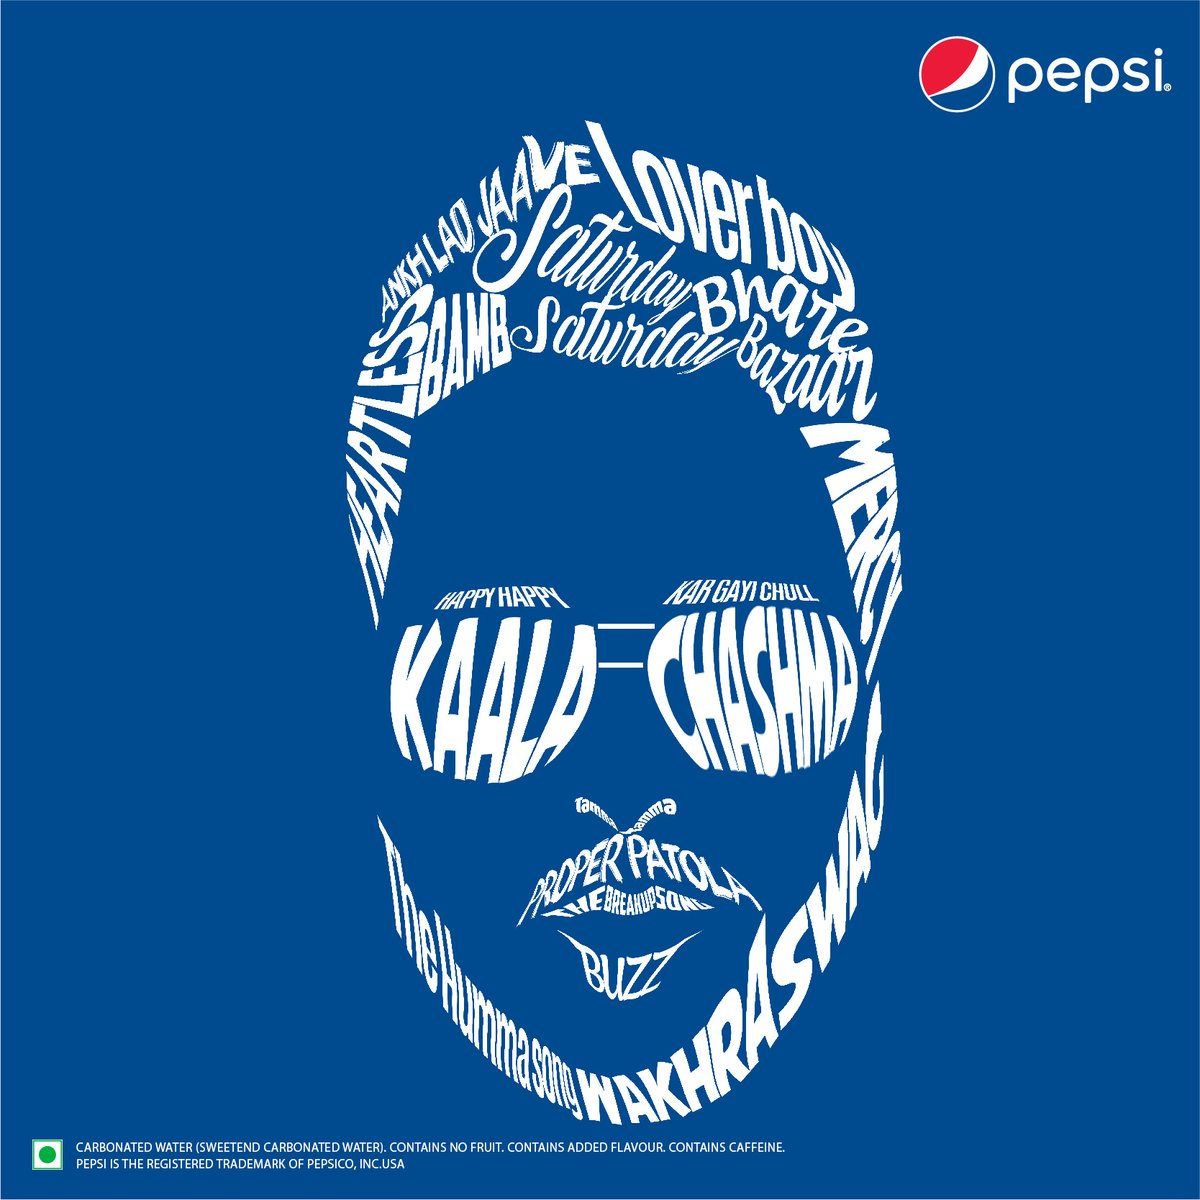pepsi: (914, 32, 999, 111)
